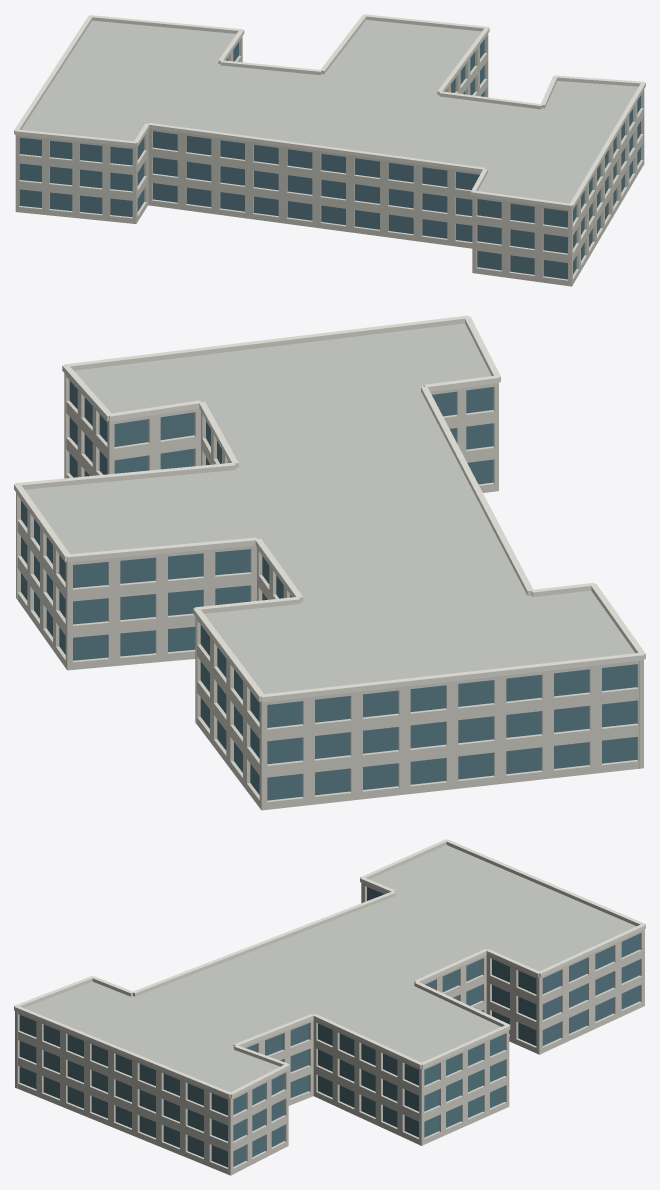
File: sb_1556523863.far.glb
3 views of the same model, one above another, from view 1: azimuth 30°, elevation 25°; view 2: azimuth 150°, elevation 25°; view 3: azimuth 270°, elevation 25° (orthographic). The views are drawn at different scales.
Visible parts, largest first — view 1: roof, wall, glass, trim; view 2: roof, wall, glass, trim; view 3: roof, wall, glass, trim.
Part boxes in pixels (x1,y1,x2,y2): roof: (21, 20, 638, 203); wall: (15, 34, 644, 286); glass: (19, 39, 640, 279); trim: (14, 14, 645, 209); roof: (25, 323, 634, 694); wall: (16, 373, 643, 810); glass: (21, 381, 637, 800); trim: (14, 315, 645, 702); roof: (24, 845, 636, 1092); wall: (15, 882, 644, 1175); glass: (19, 887, 639, 1167); trim: (14, 839, 645, 1098).
Size of the model in its own units: 65.52 by 9.74 by 68.5.
